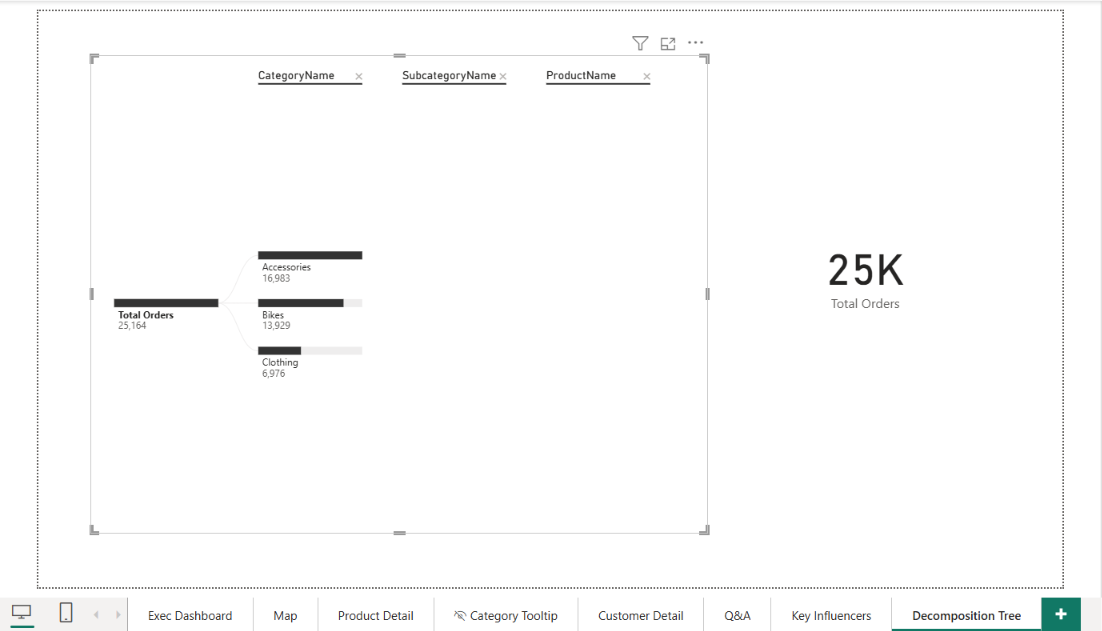

This screenshot's page, from the dashboard's own definition file:
{"tool":"powerbi","page":{"name":"Decomposition Tree","canvas":[1280,720],"ordinal":7},"visuals":[{"type":"decompositionTreeVisual","fields":{"ExplainBy":["Product Categories Lookup.CategoryName","Product Subcategories Lookup.SubcategoryName","Product Lookup.ProductName"],"Analyze":["Measure Table.Total Orders"]},"box":[64.4,55.4,773.1,597.9],"z":0},{"type":"card","fields":{"Values":["Measure Table.Total Orders"]},"box":[894.1,204.6,280.3,243],"z":1000}]}

Visuals, with their boxes on the page's 1280x720 design canvas (x1, y1, x2, y2). These are canvas units, not pixel positions in the 1102x631 screenshot, which may show the page scaled, cropped or inside an application window:
decompositionTreeVisual - Product Categories Lookup.CategoryName x Product Subcategories Lookup.SubcategoryName: select_region(64, 55, 838, 653)
card - Measure Table.Total Orders: select_region(894, 205, 1174, 448)
